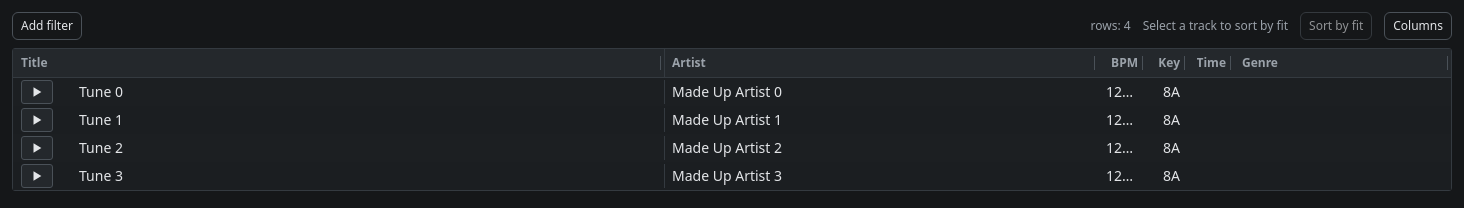
Scenario: Sort by fit after the selected track › says plainly what is missing in a reason
Click the row "Tune 2 Made Up Artist 2 124.0 8A" at (596, 148), box [13,136,1180,160]
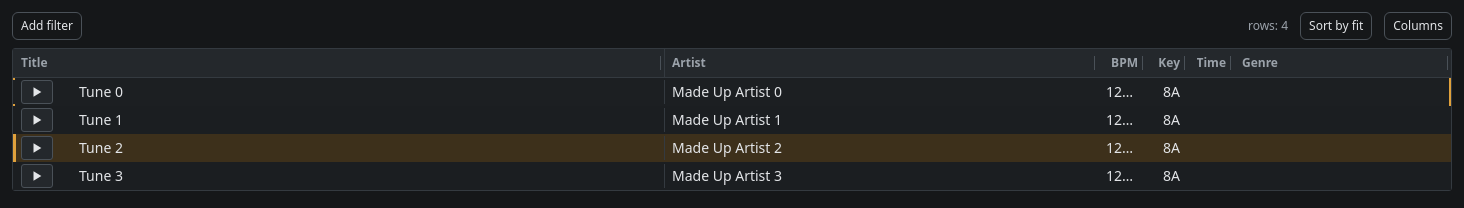
Check: the button "Sort by fit" is enabled
Click the button "Sort by fit" at (1336, 26), box [1300,12,1372,40]
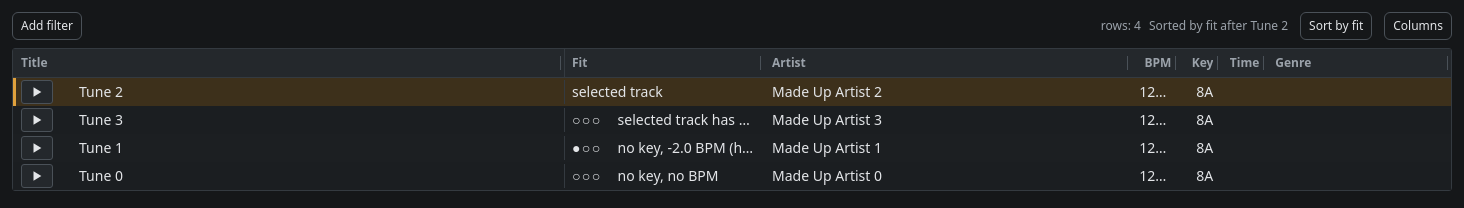
Check: the text "Sorted by fit after Tune 2" is shown, box [1149,18,1288,34]
Check: the row that starts with "Tune 3" shows "selected track has no key or BPM", box [618,110,834,129]
